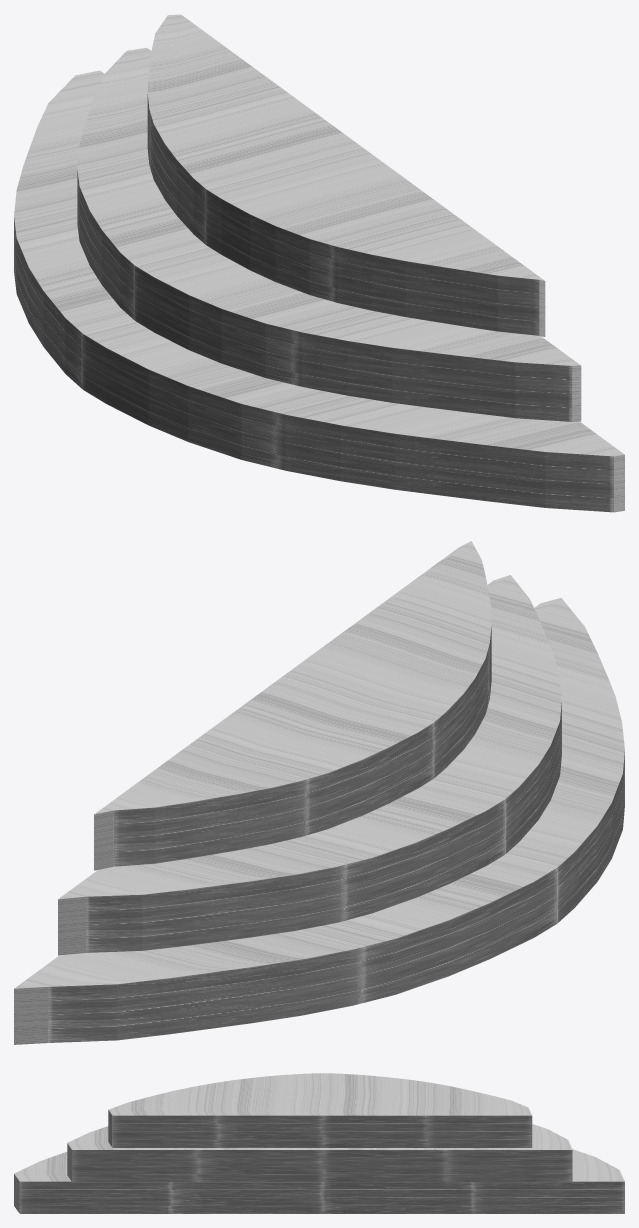
File: RoundStair.fbx
3 renders of one model, top to bottom at view 1: azimuth 30°, elevation 25°; view 2: azimuth 150°, elevation 25°; view 3: azimuth 270°, elevation 25°, orthographic. The views are drawn at different scales.
Parts seen in each view (by area): view 1: Plane.002, Plane, Plane.001; view 2: Plane.002, Plane, Plane.001; view 3: Plane, Plane.002, Plane.001.
Boxes of the visible parts, left/top/right/bottom form: Plane.002: left=14, top=70, right=624, bottom=512; Plane: left=147, top=14, right=545, bottom=336; Plane.001: left=77, top=47, right=581, bottom=421; Plane.002: left=14, top=598, right=624, bottom=1044; Plane: left=94, top=541, right=491, bottom=870; Plane.001: left=58, top=575, right=561, bottom=955; Plane: left=108, top=1073, right=532, bottom=1147; Plane.002: left=14, top=1149, right=624, bottom=1213; Plane.001: left=67, top=1124, right=572, bottom=1182.
Size of the model in its own units: 781 by 477 by 2552.
Materials: 1 (1 with a texture image).
